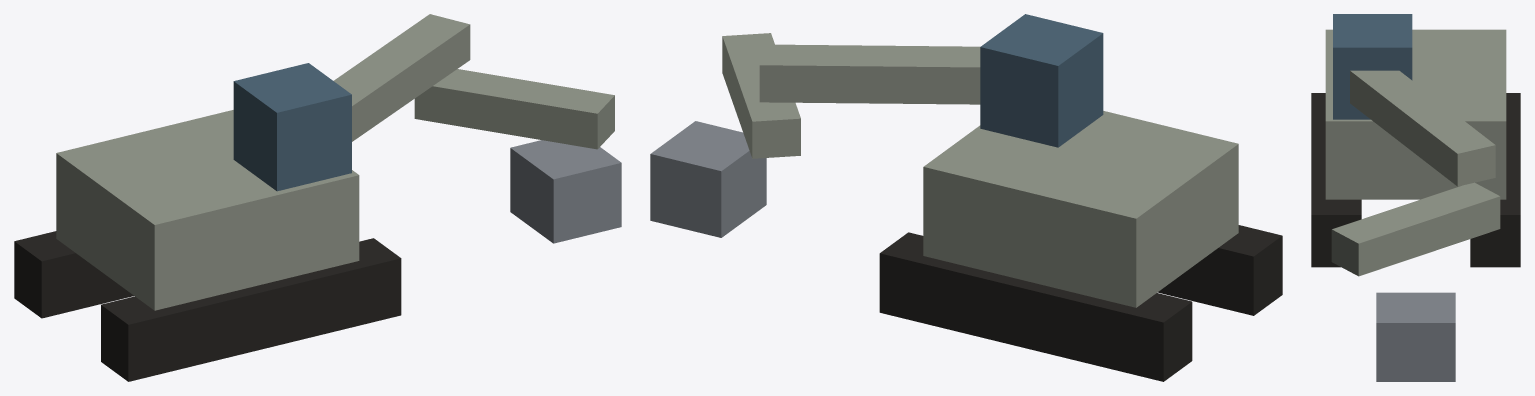
Rendered from excavator.glb.
3 renders of one model, left to right at view 1: azimuth 30°, elevation 25°; view 2: azimuth 150°, elevation 25°; view 3: azimuth 270°, elevation 25°, orthographic. The views are drawn at different scales.
Visible parts, largest first — view 1: excavator_mesh; view 2: excavator_mesh; view 3: excavator_mesh.
Boxes of the visible parts, bbox=[...] form: excavator_mesh: bbox=[14, 14, 621, 381]; excavator_mesh: bbox=[650, 14, 1282, 381]; excavator_mesh: bbox=[1311, 14, 1520, 381].
Size of the model in its own units: 0.155 by 0.062 by 0.058.
